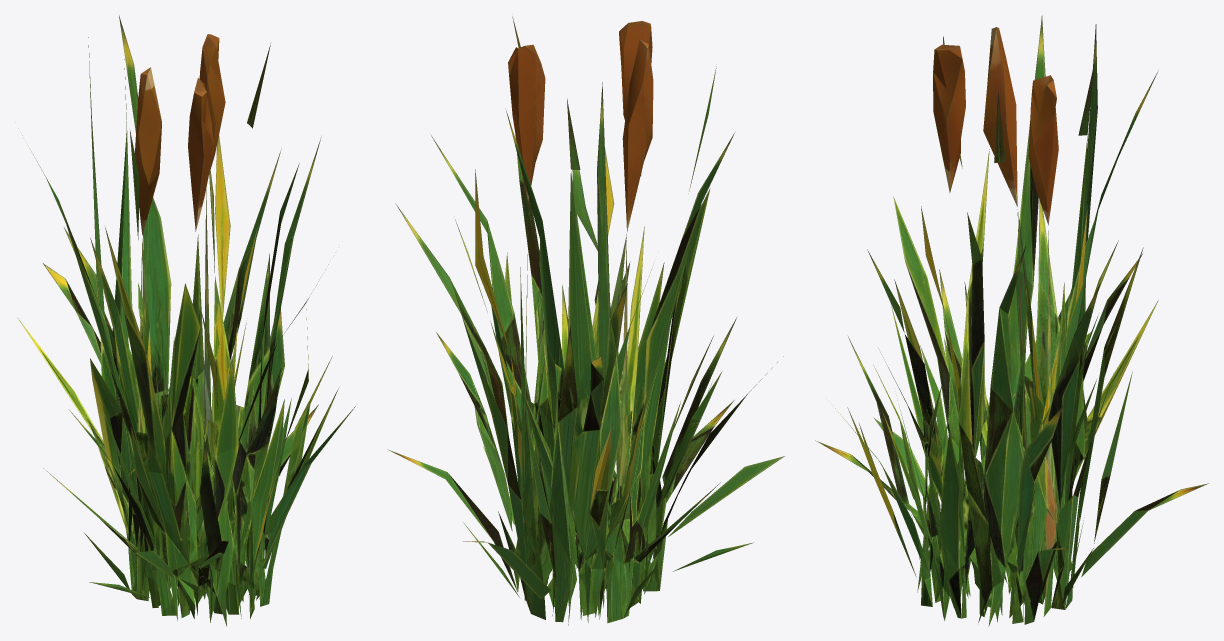
The model's file is Reeds.glb.
3 views of the same model, side by side, from view 1: azimuth 30°, elevation 25°; view 2: azimuth 150°, elevation 25°; view 3: azimuth 270°, elevation 25° (orthographic). The views are drawn at different scales.
Bounding box in the file's own units: 0.803 × 1.3 × 0.8478.
Materials: 1 (1 with a texture image).
